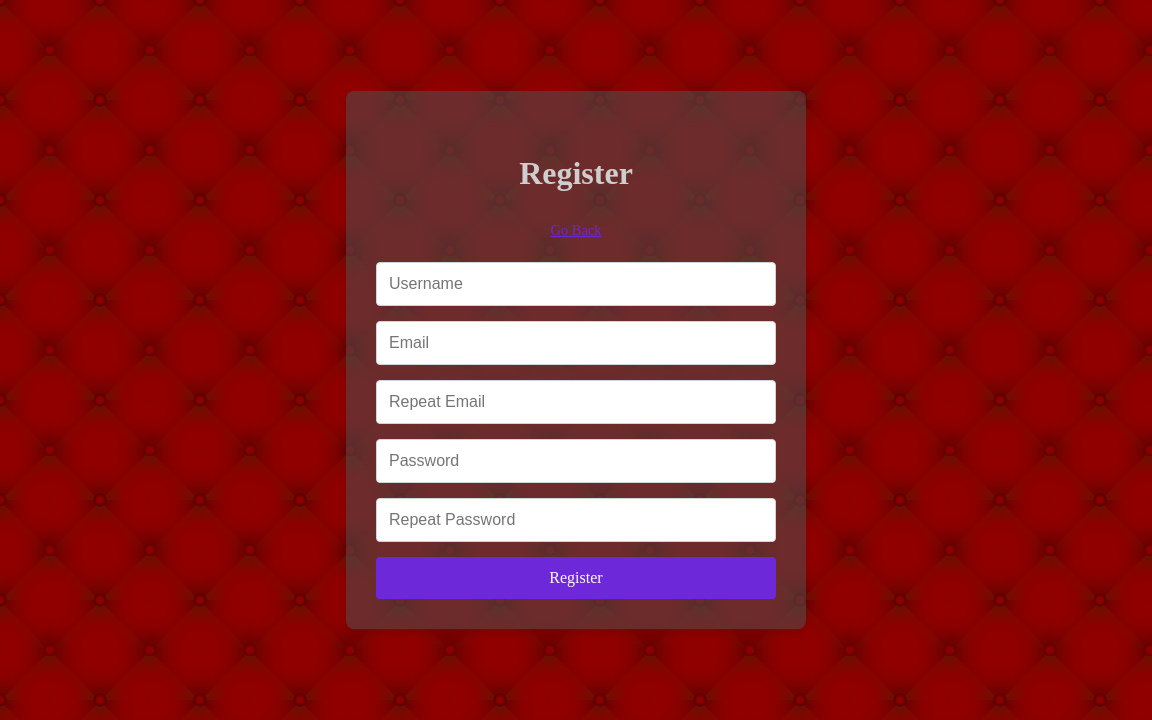
RegisterPage Component › shows an error message if any field is empty
The width and height of the screenshot is (1152, 720).
Note: Submit the form without filling in any fields
Click the button "Register" at (576, 578), box [376,557,776,599]
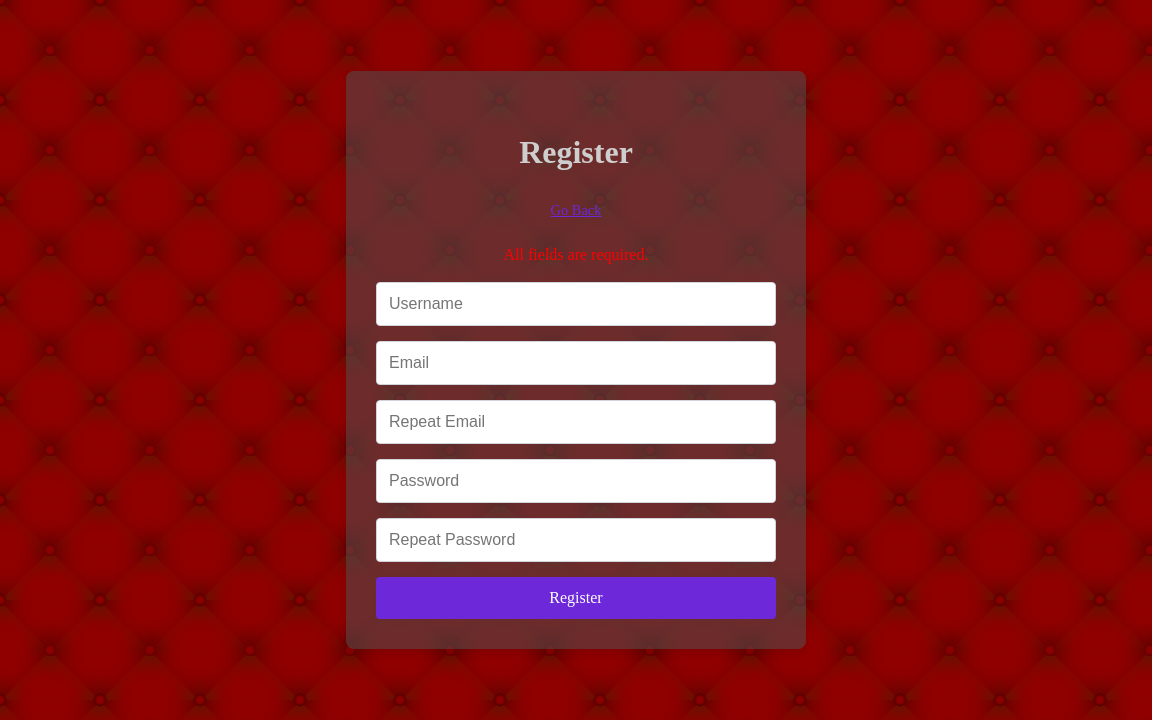
expect the text "All fields are required." is shown: met, box [504,246,648,263]
